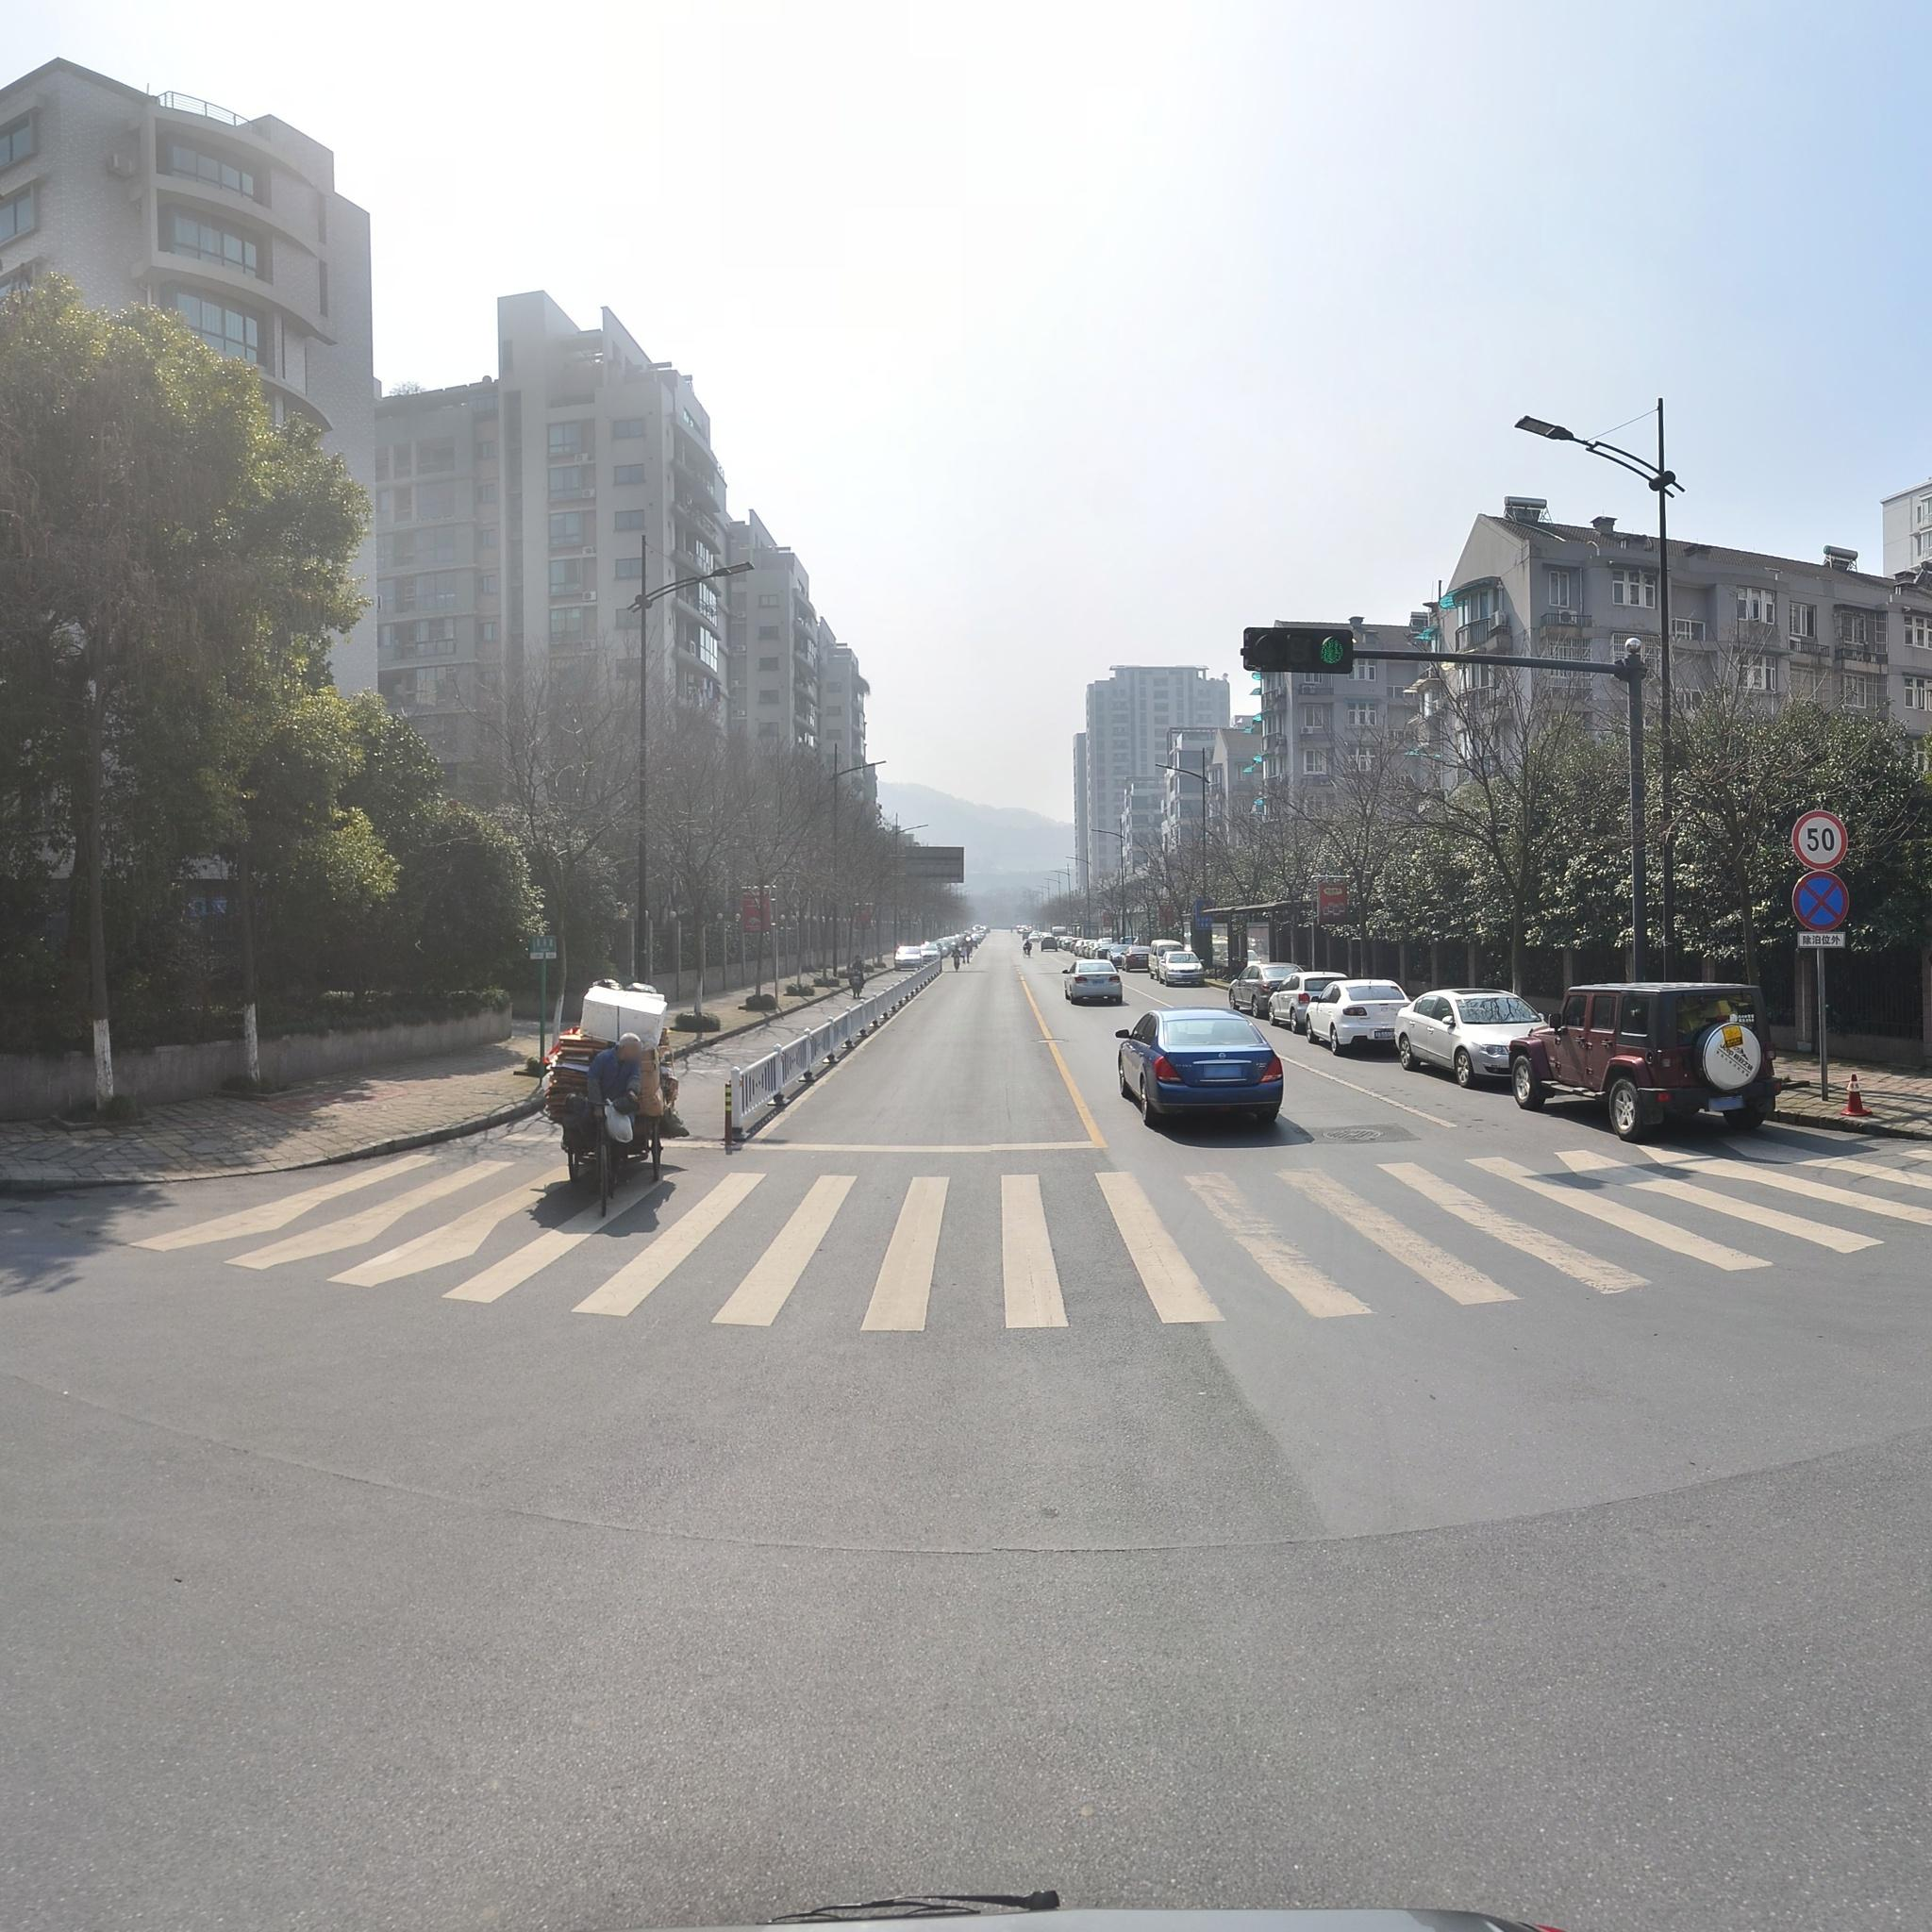pl50: (1796, 807, 1847, 872)
pn: (1792, 872, 1847, 938)
